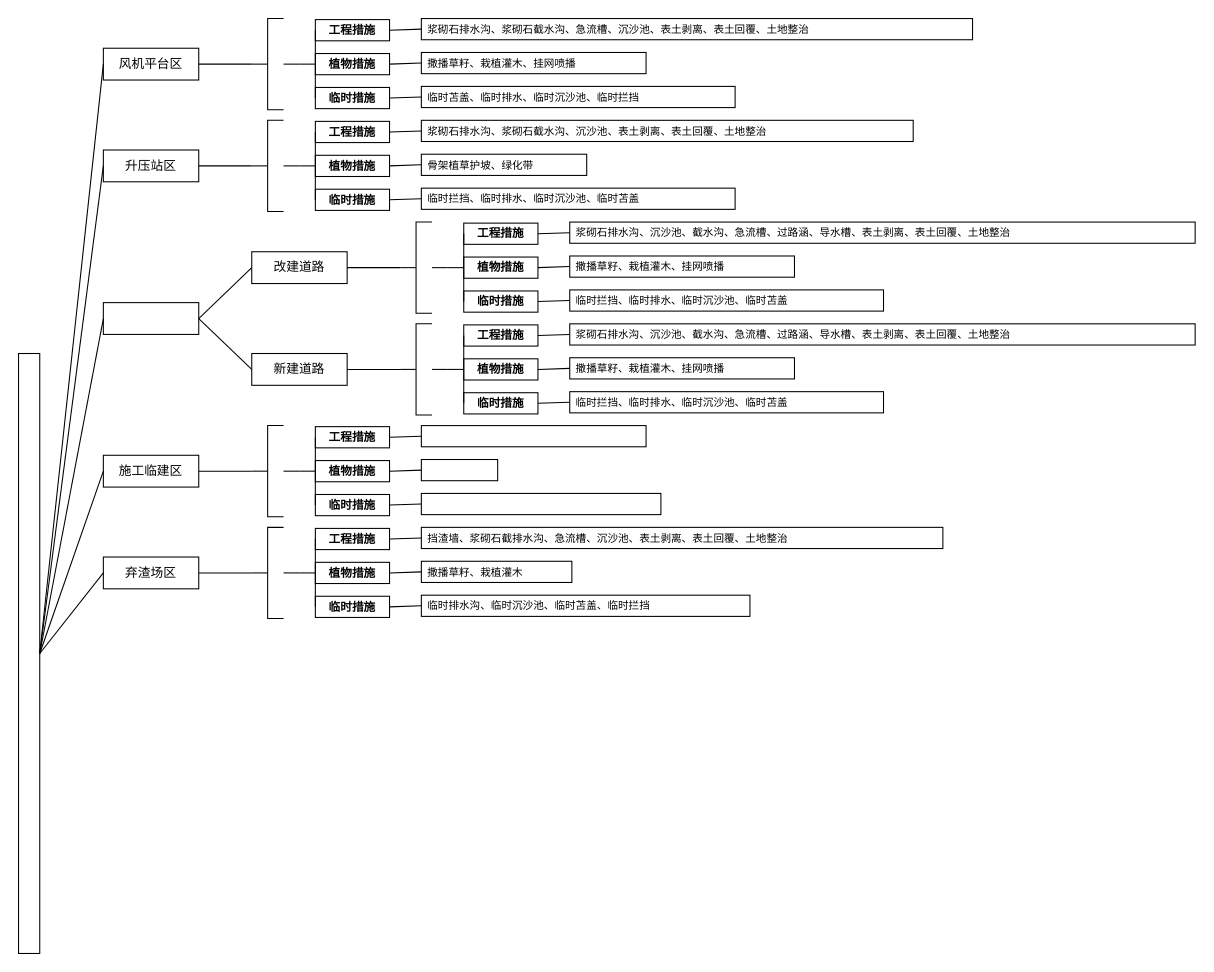
This 1214x972 diagram has some shape labels left out. The shapes that lost their labels are listed below. From the top down, each one's centre as x and y in pixels, then its label:
At (x=150, y=318): "道路工程区".
At (x=533, y=436): "表土剥离、表土回覆、土地整治".
At (x=459, y=469): "撒播草籽".
At (x=540, y=503): "临时排水、临时沉沙池、临时苫盖".
At (x=28, y=652): "防治措施体系".
